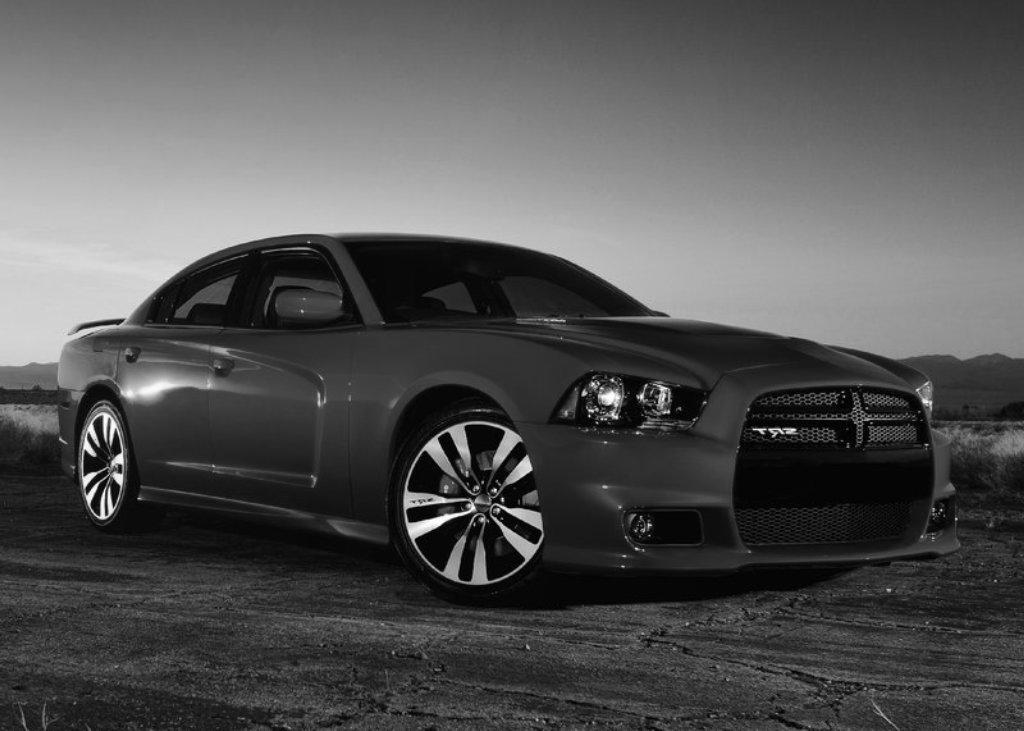car: (56, 237, 960, 611)
